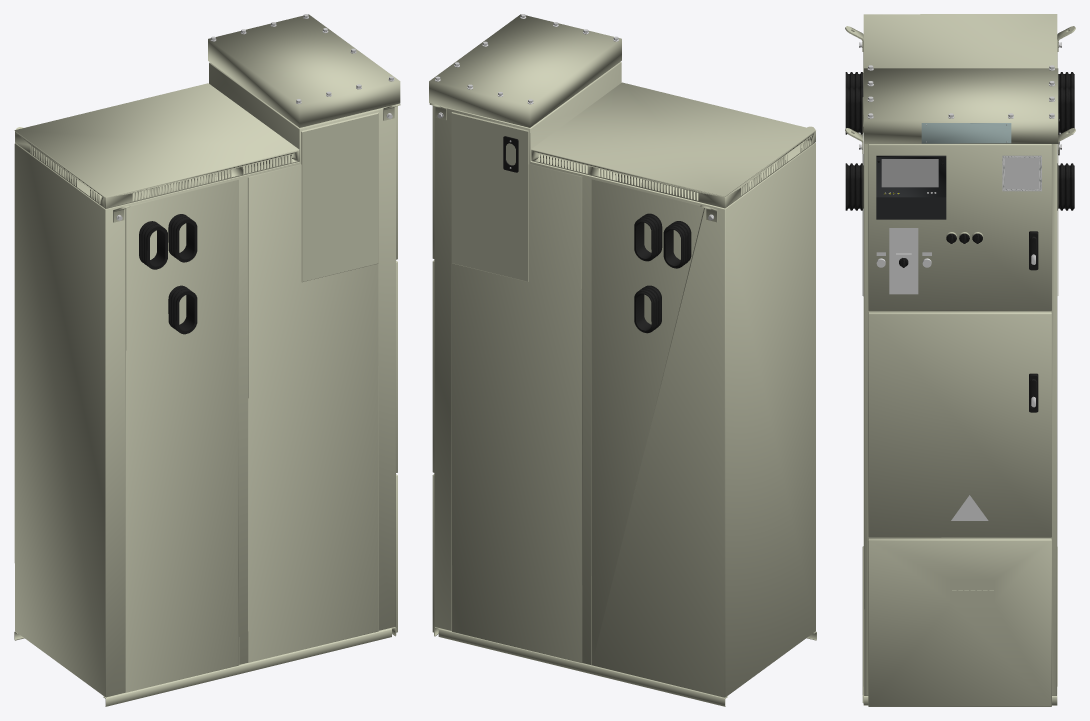
File: FIder_both.fbx
3 renders of one model, left to right at view 1: azimuth 30°, elevation 25°; view 2: azimuth 150°, elevation 25°; view 3: azimuth 270°, elevation 25°, orthographic. The views are drawn at different scales.
Visible parts, largest first — view 1: Шкаф, Накладки шин.001; view 2: Шкаф, Накладки шин; view 3: Шкаф, Накладки шин.001, Подпись шкафа, Plane, Накладки шин, Табло, Часть экрана, Экран, Амперметр, Предупреждающий знак, Подложка амперметра.
Part boxes in pixels (<box>): Шкаф: <box>14,14,400,706</box>; Накладки шин.001: <box>139,214,197,334</box>; Шкаф: <box>429,14,816,706</box>; Накладки шин: <box>634,213,691,333</box>; Шкаф: <box>845,14,1075,706</box>; Накладки шин.001: <box>845,72,863,210</box>; Подпись шкафа: <box>921,123,1011,143</box>; Plane: <box>889,228,918,294</box>; Накладки шин: <box>1057,72,1074,210</box>; Табло: <box>881,159,938,187</box>; Часть экрана: <box>876,197,946,219</box>; Экран: <box>876,155,946,197</box>; Амперметр: <box>1005,158,1038,188</box>; Предупреждающий знак: <box>951,495,988,520</box>; Подложка амперметра: <box>1002,155,1041,191</box>.
Bounding box in the file's own units: 142 × 251 × 88.94.
